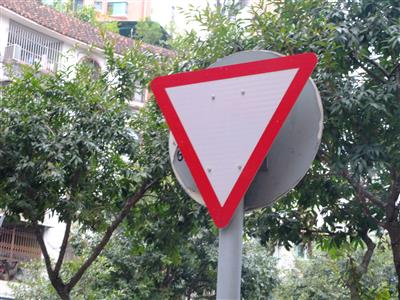yield: (143, 44, 319, 236)
